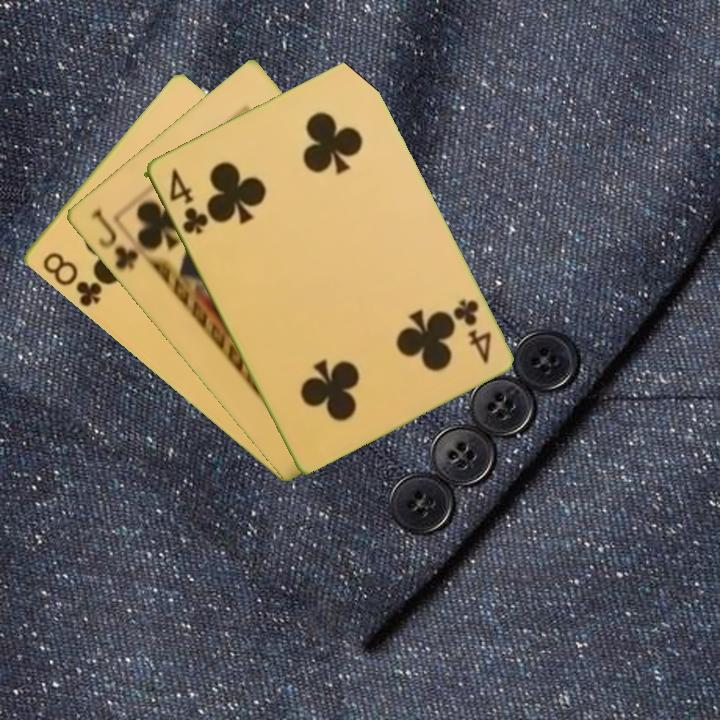4c: (448, 295, 494, 366), (165, 165, 210, 237)
8c: (38, 248, 108, 310)
Jc: (87, 205, 141, 273)
